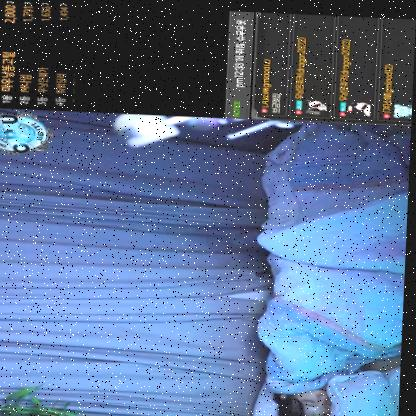streamer: (254, 154, 396, 416)
